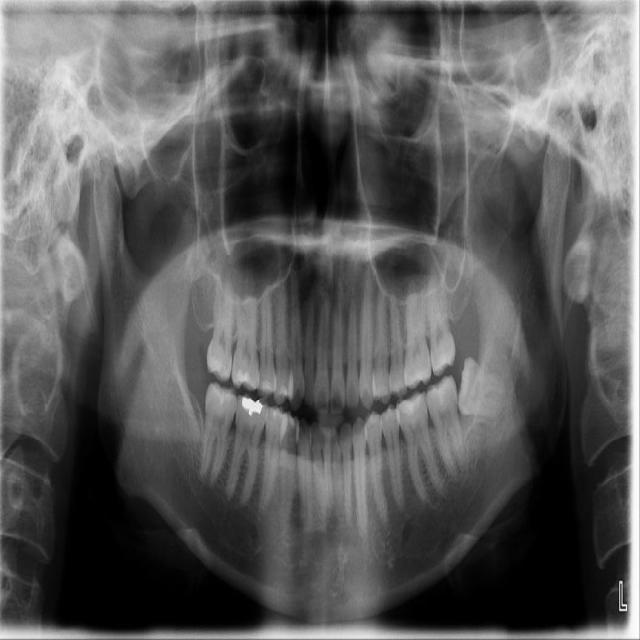Filling: (240, 396, 262, 416)
impacted tooth: (457, 357, 516, 416)
